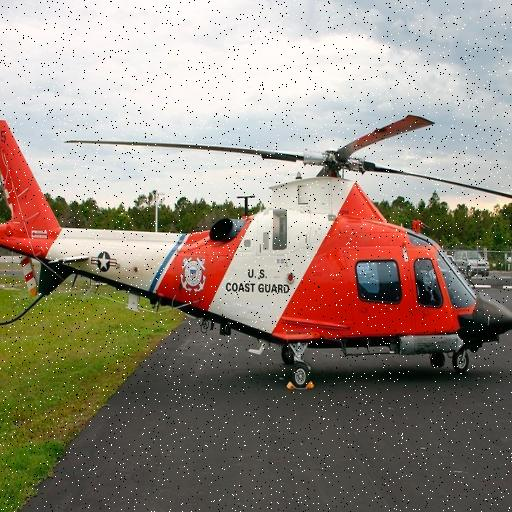helicopter: (1, 120, 512, 382)
